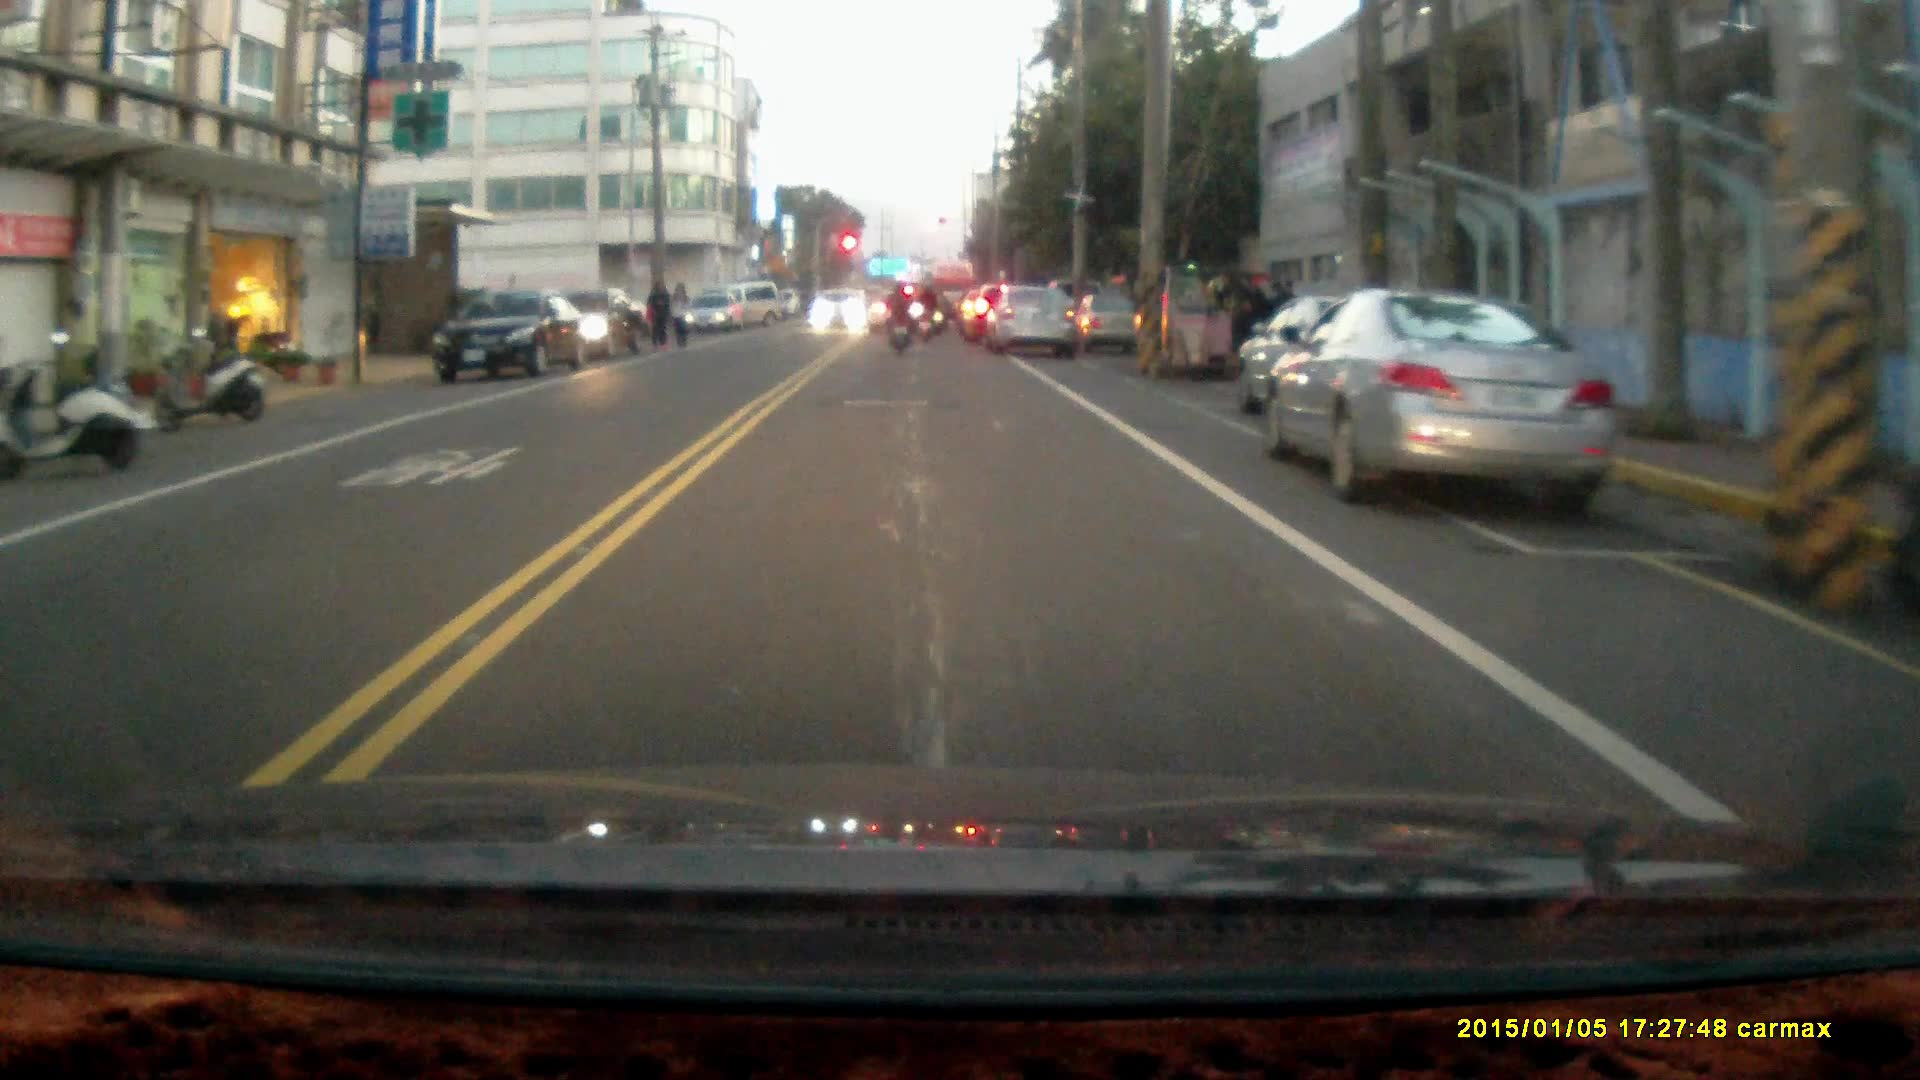pedestrian: (644, 276, 673, 354), (668, 280, 689, 354)
rider: (882, 279, 914, 357), (913, 280, 940, 345)
vehicle: (1266, 292, 1621, 520), (436, 288, 592, 387), (1121, 270, 1253, 383), (987, 285, 1085, 361), (809, 293, 865, 339)
